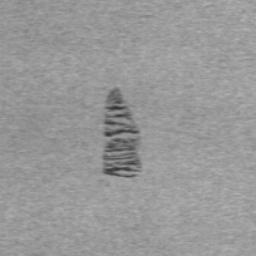Secondary rust skin: (102, 88, 141, 178)
